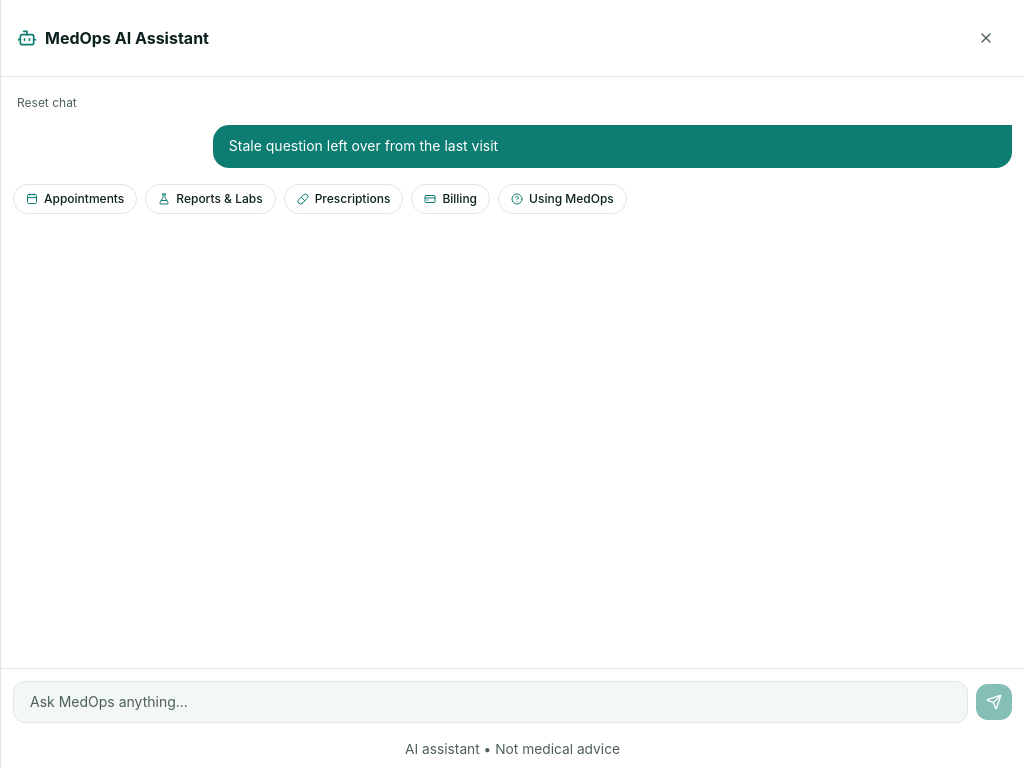
Test: MedOpsAIChatPanel conversation storage › clears the transcript when 'Reset chat' is pressed
The width and height of the screenshot is (1024, 768).
What coordinates should you click on to do the following:
click the button "Reset chat"
I would click on:
 (47, 103)
Its box is [17,95,77,111].
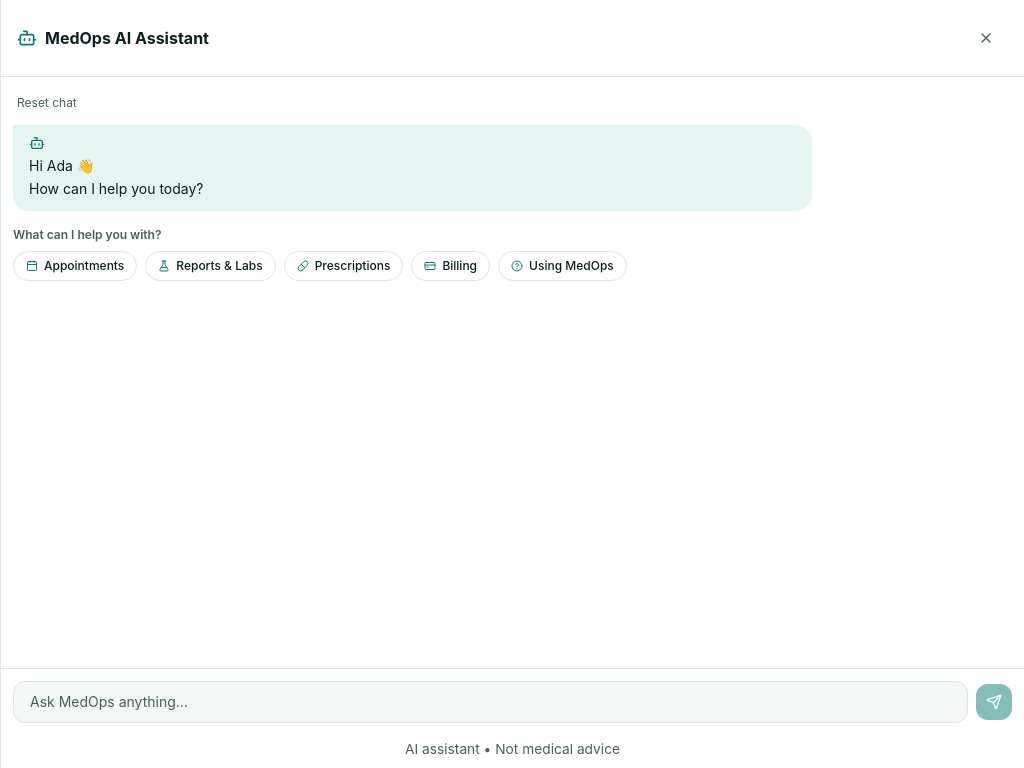
Expected: the text "Stale question left over from the last visit" is gone
